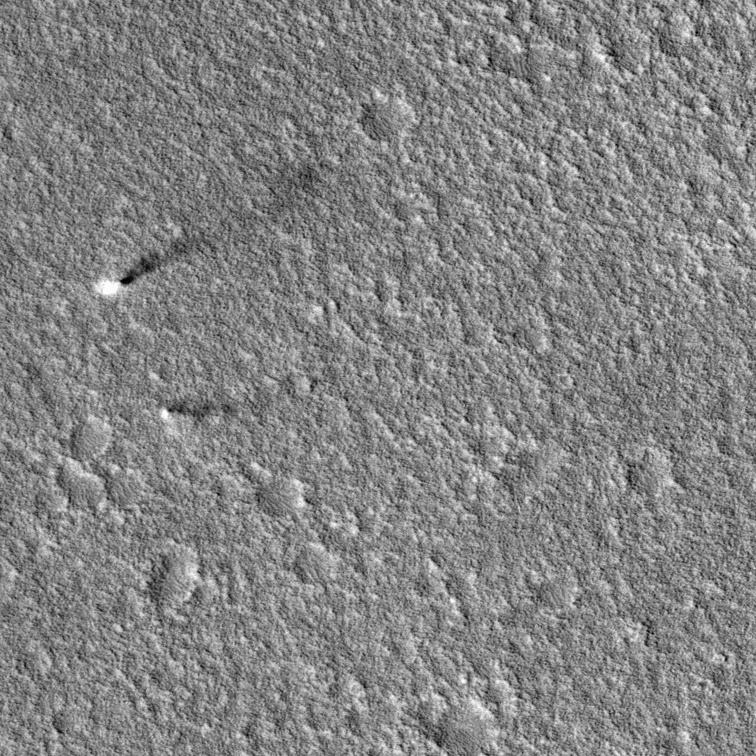dust_devil: (86, 157, 331, 303), (157, 397, 232, 427)
